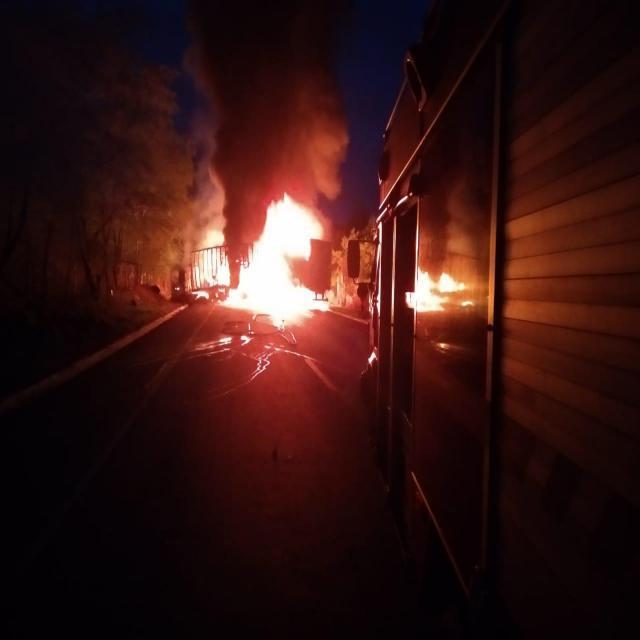Fire: (256, 208, 328, 327), (404, 246, 464, 326), (183, 226, 224, 302)
Smoke: (116, 13, 402, 187)
